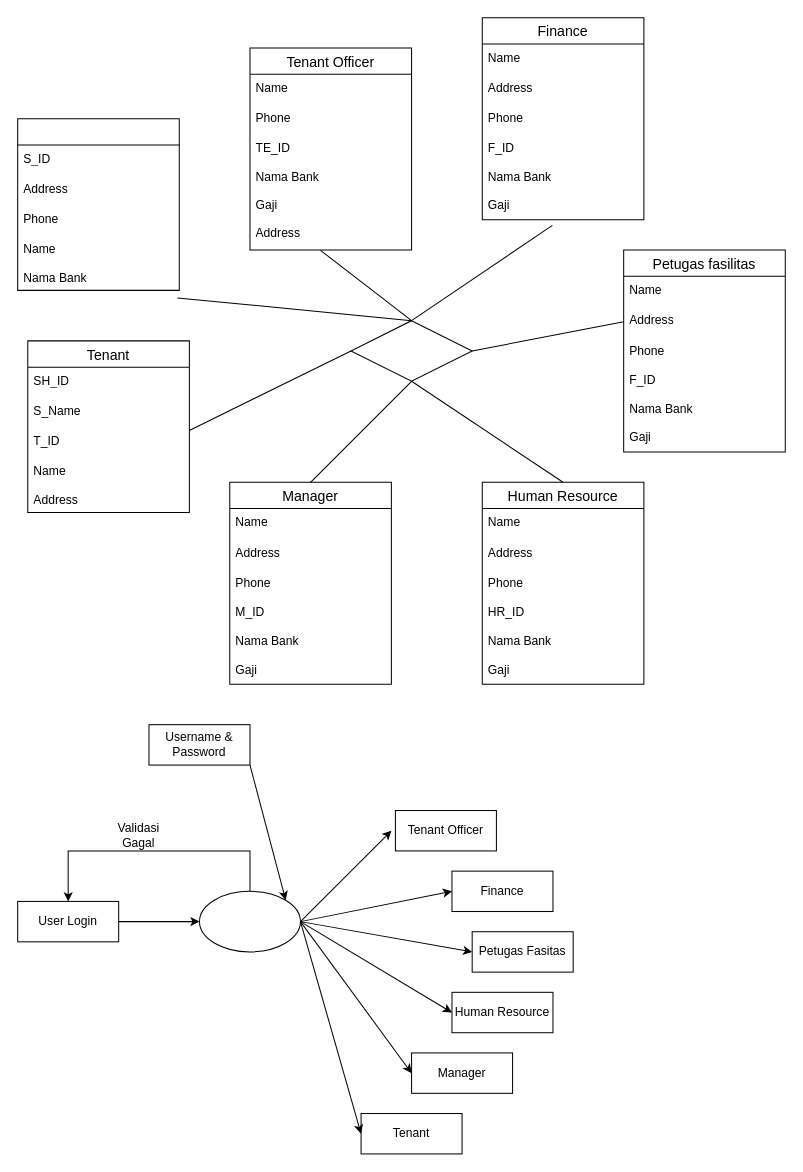
Some shapes in this 803 by 1172 pixel diagram are drawn without their labels. The shapes that lost their labels are listed below. From the top down, each one's box as (x1, y1, x2, y2) in pixels, then its label:
(17, 118, 179, 290): Shopping Mall
(350, 320, 472, 381): Relationship
(198, 890, 300, 952): Validation
